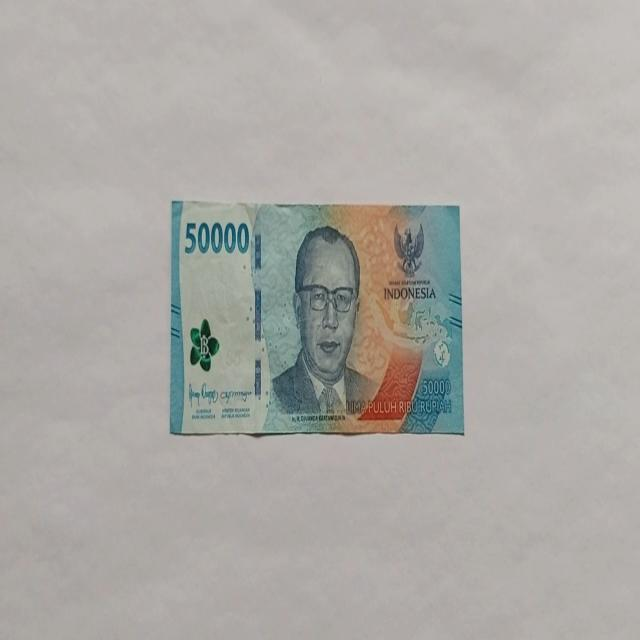lima puluh ribu rupiah: (168, 198, 464, 438), (266, 223, 380, 427)
